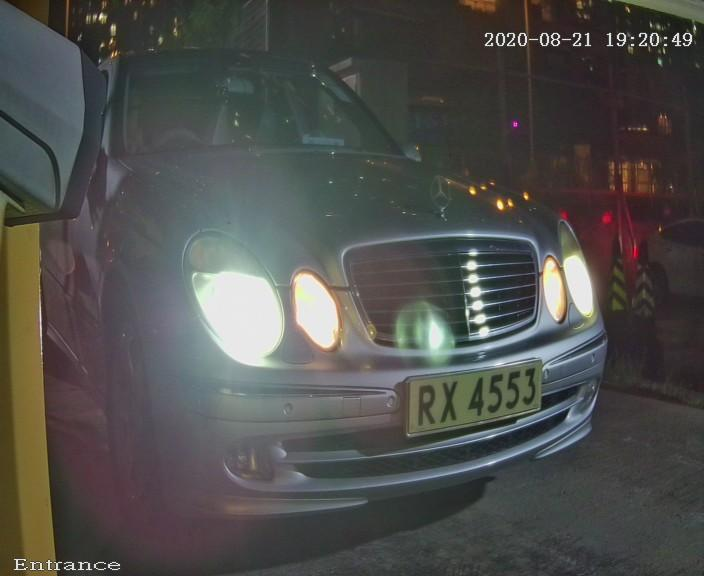Car: (16, 3, 654, 538)
License Plate: (370, 344, 567, 457)
